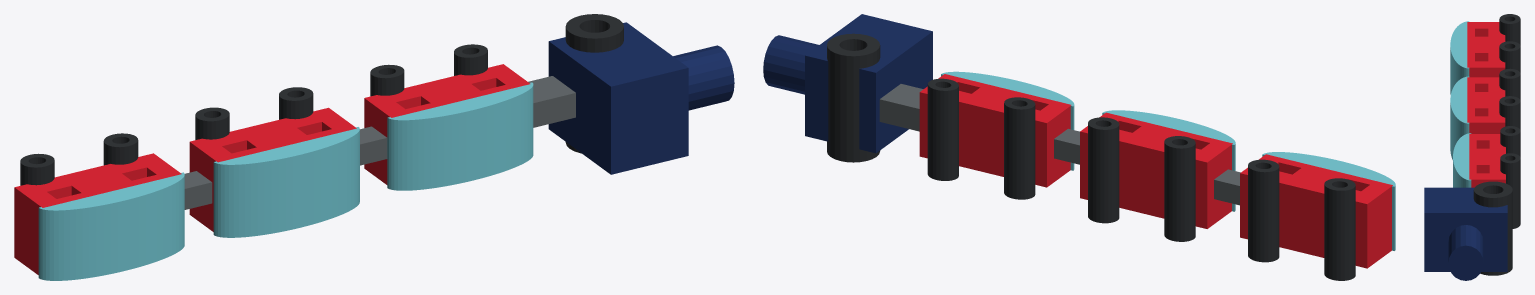
Rendered from tinker.obj.
3 views of the same model, side by side, from view 1: azimuth 30°, elevation 25°; view 2: azimuth 150°, elevation 25°; view 3: azimuth 270°, elevation 25° (orthographic). The views are drawn at different scales.
Parts seen in each view (by area): view 1: group_0_7720667, group_0_1650274, group_0_15277357, group_0_2829873, group_0_6383466; view 2: group_0_2829873, group_0_15277357, group_0_1650274, group_0_7720667, group_0_6383466; view 3: group_0_1650274, group_0_15277357, group_0_2829873, group_0_7720667.
Part boxes in pixels (<box>): group_0_7720667: <box>38,82,533,280</box>; group_0_1650274: <box>548,22,734,174</box>; group_0_15277357: <box>14,64,530,274</box>; group_0_2829873: <box>20,14,623,185</box>; group_0_6383466: <box>184,76,575,209</box>; group_0_2829873: <box>827,33,1355,280</box>; group_0_15277357: <box>919,74,1392,268</box>; group_0_1650274: <box>763,14,932,153</box>; group_0_7720667: <box>941,71,1395,250</box>; group_0_6383466: <box>879,84,1240,205</box>; group_0_1650274: <box>1424,187,1507,280</box>; group_0_15277357: <box>1467,22,1505,187</box>; group_0_2829873: <box>1473,14,1520,275</box>; group_0_7720667: <box>1450,21,1471,187</box>.
Bounding box in the file's own units: 202 × 33 × 37.
